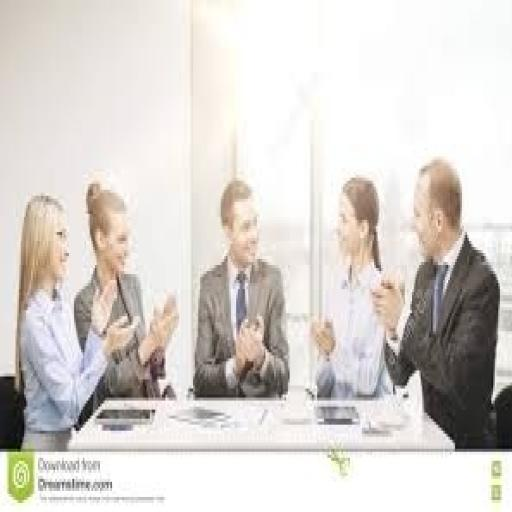clapping: (369, 154, 502, 448), (14, 190, 138, 442), (71, 174, 179, 412), (191, 174, 290, 400), (309, 172, 398, 404)
